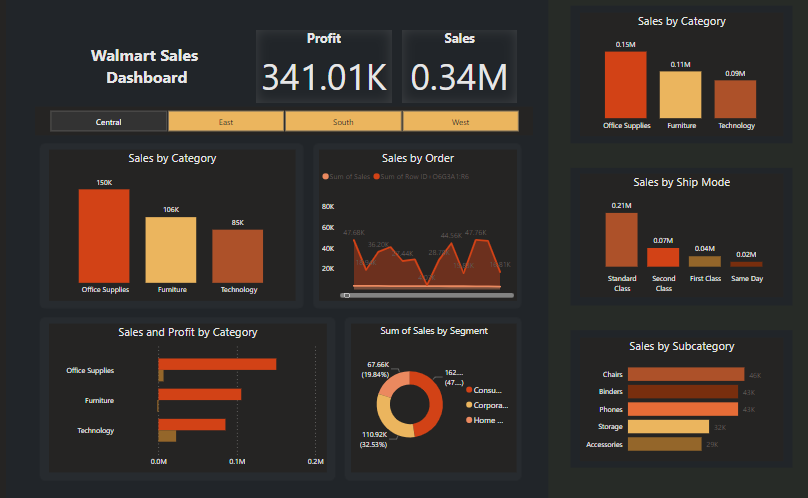

What the dashboard file says about the page in this screenshot:
{"tool":"powerbi","page":{"name":"Dashboard","canvas":[1480,920],"ordinal":0},"visuals":[{"type":"clusteredColumnChart","title":"Sales by Category","fields":{"Category":["SuperStore_Sales_Dataset.Category"],"Y":["Sum(SuperStore_Sales_Dataset.Sales)"]},"box":[201.7,322,411.2,252.2],"z":0},{"type":"clusteredBarChart","title":"Sales and Profit by Category","fields":{"Category":["SuperStore_Sales_Dataset.Category"],"Y":["Sum(SuperStore_Sales_Dataset.Sales)","Sum(SuperStore_Sales_Dataset.Profit)"]},"box":[202.1,612.4,462.9,248.5],"z":1000},{"type":"stackedAreaChart","title":"Sales by Order","fields":{"Category":["SuperStore_Sales_Dataset.Order Date"],"Y":["Sum(SuperStore_Sales_Dataset.Sales)","Sum(SuperStore_Sales_Dataset.Row ID+O6G3A1:R6)"]},"box":[651.7,322,329.8,252.2],"z":2000},{"type":"clusteredColumnChart","title":"Sales by Category","fields":{"Category":["SuperStore_Sales_Dataset.Category"],"Y":["Sum(SuperStore_Sales_Dataset.Sales)"]},"box":[1086.2,93.1,339.4,205.6],"z":3000},{"type":"clusteredColumnChart","title":"Sales by Ship Mode","fields":{"Category":["SuperStore_Sales_Dataset.Ship Mode"],"Y":["Sum(SuperStore_Sales_Dataset.Sales)"]},"box":[1086.2,361.5,339.4,206.4],"z":4000},{"type":"barChart","title":"Sales by Subcategory","fields":{"Category":["SuperStore_Sales_Dataset.Sub-Category"],"Y":["Sum(SuperStore_Sales_Dataset.Sales)"]},"box":[1086.2,634.3,339.4,205.6],"z":5000},{"type":"donutChart","fields":{"Category":["SuperStore_Sales_Dataset.Segment"],"Y":["Sum(SuperStore_Sales_Dataset.Sales)"]},"box":[705.2,612.4,276.3,248.5],"z":6000},{"type":"slicer","fields":{"Values":["SuperStore_Sales_Dataset.Region"]},"box":[178,250,830,48],"z":7000},{"type":"textbox","box":[238,140,252,88],"z":8000},{"type":"card","title":"Sales","fields":{"Values":["Sum(SuperStore_Sales_Dataset.Sales)"]},"box":[790,122,192,122],"z":9000},{"type":"card","title":"Profit","fields":{"Values":["Sum(SuperStore_Sales_Dataset.Sales)"]},"box":[546,122,226,122],"z":10000},{"type":"shape","box":[0,46.7,130,873.3],"z":10001}]}

Visuals, with their boxes in screenshot pixels (x1, y1, x2, y2), scaled from the page's 1480x920 canvas onto the 808x498 screenshot:
"Sales by Category" clusteredColumnChart: {"x1": 110, "y1": 174, "x2": 335, "y2": 311}
"Sales and Profit by Category" clusteredBarChart: {"x1": 110, "y1": 331, "x2": 363, "y2": 466}
"Sales by Order" stackedAreaChart: {"x1": 356, "y1": 174, "x2": 536, "y2": 311}
"Sales by Category" clusteredColumnChart: {"x1": 593, "y1": 50, "x2": 778, "y2": 162}
"Sales by Ship Mode" clusteredColumnChart: {"x1": 593, "y1": 196, "x2": 778, "y2": 307}
"Sales by Subcategory" barChart: {"x1": 593, "y1": 343, "x2": 778, "y2": 455}
donutChart - SuperStore_Sales_Dataset.Segment x Sum(SuperStore_Sales_Dataset.Sales): {"x1": 385, "y1": 331, "x2": 536, "y2": 466}
slicer - SuperStore_Sales_Dataset.Region: {"x1": 97, "y1": 135, "x2": 550, "y2": 161}
textbox: {"x1": 130, "y1": 76, "x2": 268, "y2": 123}
"Sales" card: {"x1": 431, "y1": 66, "x2": 536, "y2": 132}
"Profit" card: {"x1": 298, "y1": 66, "x2": 421, "y2": 132}
shape: {"x1": 0, "y1": 25, "x2": 71, "y2": 497}
